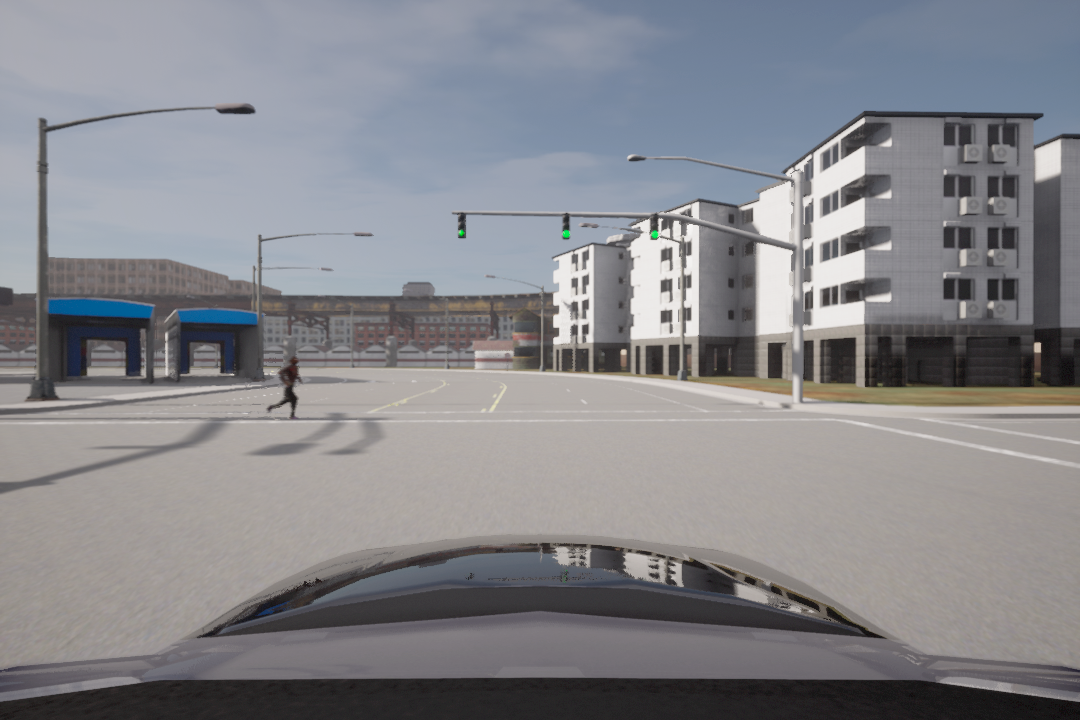TrafficLight: (558, 213, 574, 244), (455, 211, 467, 242), (650, 211, 659, 242)
